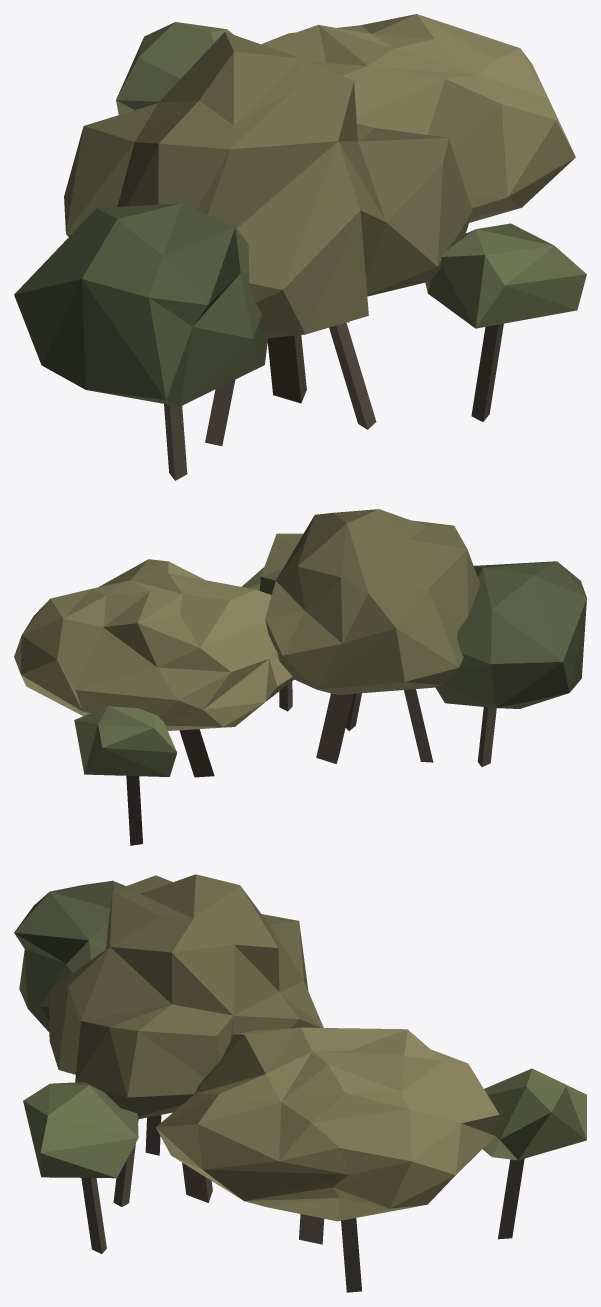
File: SM_Env_Bush_Group_02.fbx
3 renders of one model, top to bottom at view 1: azimuth 30°, elevation 25°; view 2: azimuth 150°, elevation 25°; view 3: azimuth 270°, elevation 25°, orthographic. The views are drawn at different scales.
Parts seen in each view (by area): view 1: SM_Env_Bush_Group_02; view 2: SM_Env_Bush_Group_02; view 3: SM_Env_Bush_Group_02.
Part boxes in pixels (x1,y1,x2,y2): SM_Env_Bush_Group_02: (14, 14, 586, 480); SM_Env_Bush_Group_02: (14, 509, 586, 845); SM_Env_Bush_Group_02: (14, 874, 586, 1292).
Size of the model in its own units: 336 by 187 by 322.
